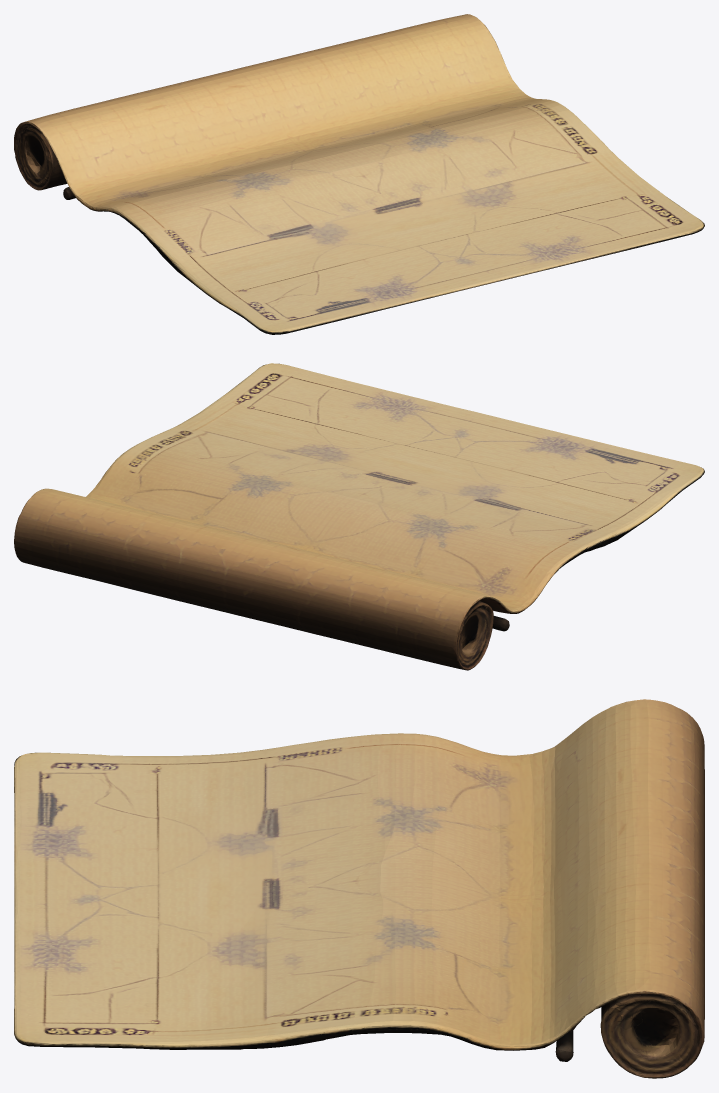
Rendered from cork-yoga-mat-new-style.jpeg.glb.
The picture shows the model from 3 angles, top to bottom: view 1: azimuth 30°, elevation 25°; view 2: azimuth 150°, elevation 25°; view 3: azimuth 270°, elevation 25°; orthographic projection. The views are drawn at different scales.
Parts seen in each view (by area): view 1: world; view 2: world; view 3: world.
Boxes of the visible parts, <box> form: world: <box>14,14,704,334</box>; world: <box>14,363,704,670</box>; world: <box>14,699,704,1078</box>.
Bounding box in the file's own units: 1 × 0.1439 × 1.
Materials: 1 (1 with a texture image).
